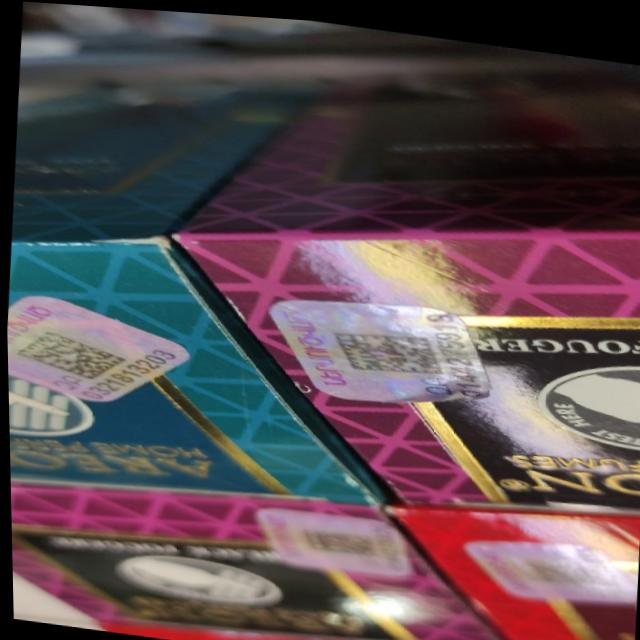datamatrix: (326, 318, 445, 376), (12, 326, 126, 384)
